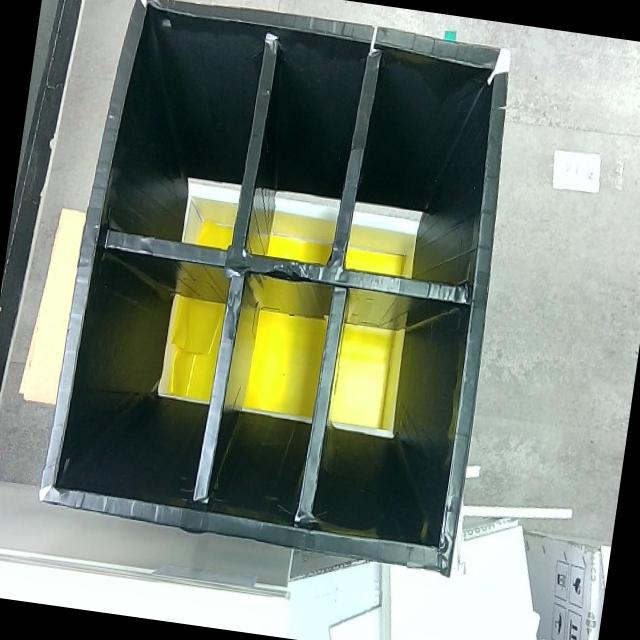box: (36, 0, 527, 576)
